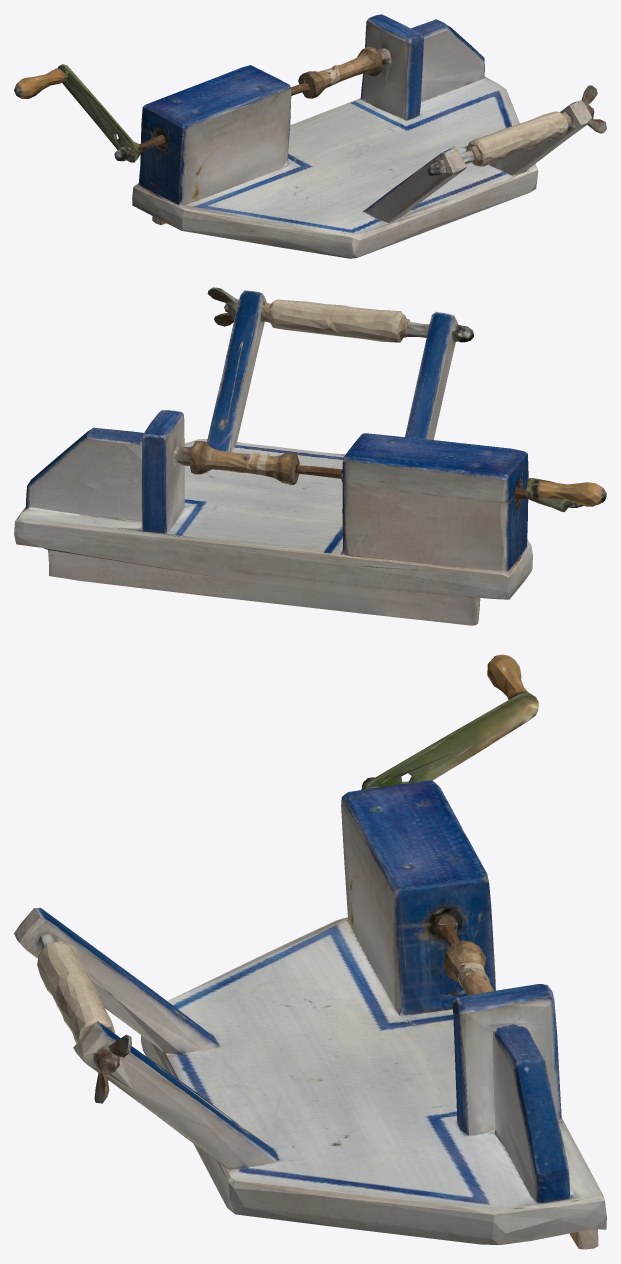
File: CDC8745F-2FFF-824F-A03E-A7994F3B8A1D_512.glb
3 views of the same model, one above another, from view 1: azimuth 30°, elevation 25°; view 2: azimuth 150°, elevation 25°; view 3: azimuth 270°, elevation 25° (orthographic). The views are drawn at different scales.
Parts seen in each view (by area): view 1: Schnurwickelmaschine_6k_1k; view 2: Schnurwickelmaschine_6k_1k; view 3: Schnurwickelmaschine_6k_1k.
Part boxes in pixels (x1,y1,x2,y2): Schnurwickelmaschine_6k_1k: [14, 14, 606, 258]; Schnurwickelmaschine_6k_1k: [14, 287, 606, 625]; Schnurwickelmaschine_6k_1k: [14, 654, 606, 1249].
Bounding box in the file's own units: 0.6951 × 0.2252 × 0.4663.
1 material, 1 textured.
